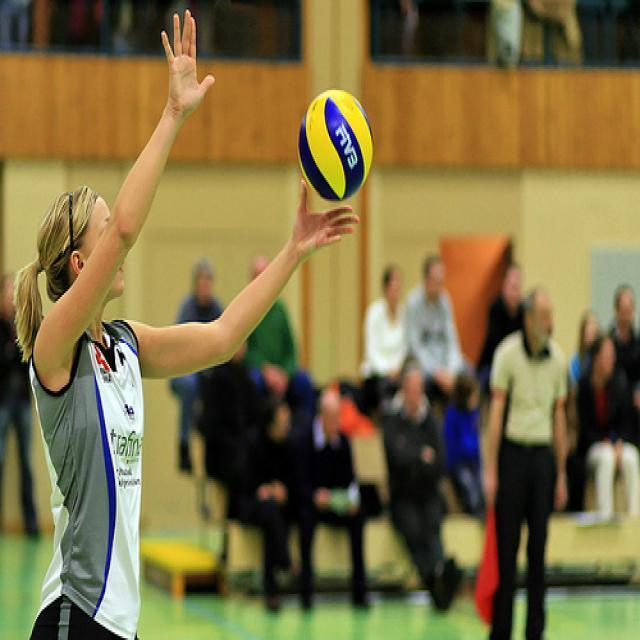volleyball: (297, 88, 373, 203)
